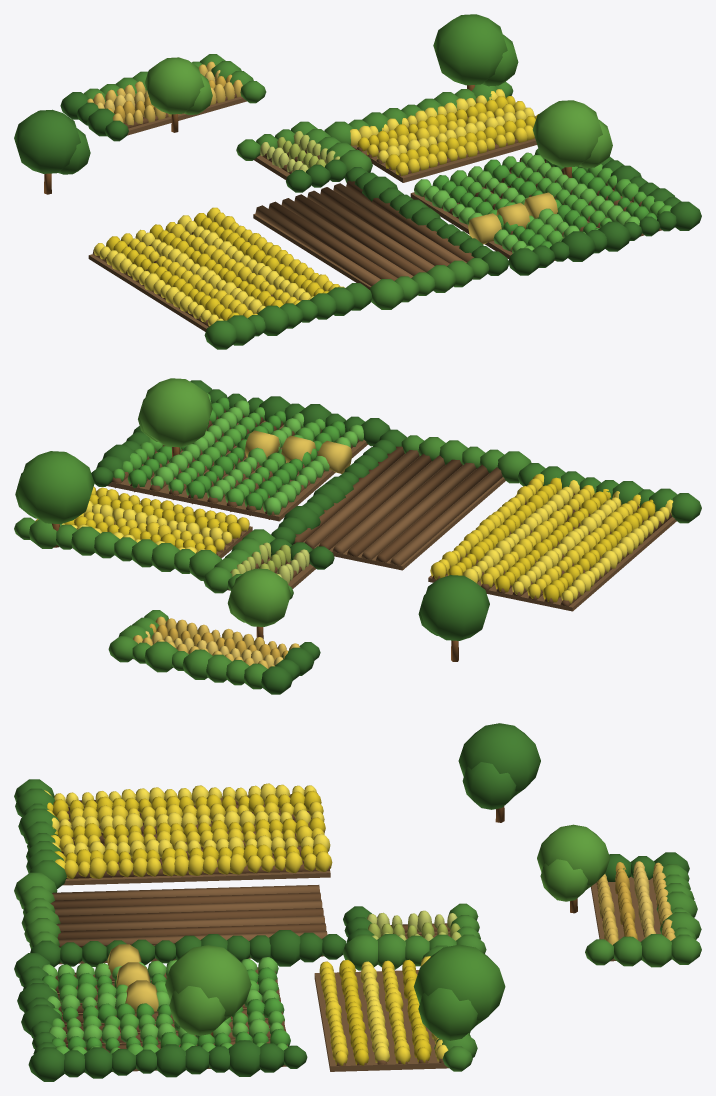
Rendered from improvement_farm_2_0.fbx.
The picture shows the model from 3 angles, top to bottom: view 1: azimuth 30°, elevation 25°; view 2: azimuth 150°, elevation 25°; view 3: azimuth 270°, elevation 25°; orthographic projection. The views are drawn at different scales.
Parts seen in each view (by area): view 1: improvement_farm_2_0_crop#f4dc48.001_04, improvement_farm_2_0_crop#ecd030.001_02, improvement_farm_2_0_crop#e0c420.001_03, improvement_farm_2_0_leaf#5a9a38.003_28, improvement_farm_2_0_plough1.003_07, improvement_farm_2_0_plough0.003_06, improvement_farm_2_0_hedge2.013_21, improvement_farm_2_0_hedge0.013_08, improvement_farm_2_0_hedge2.012_09, improvement_farm_2_0_crop#68b448.002_25, improvement_farm_2_0_tilled.004_00, improvement_farm_2_0_leaf#4a8a30.004_29 (+14 smaller); view 2: improvement_farm_2_0_crop#e0c420.001_03, improvement_farm_2_0_crop#ecd030.001_02, improvement_farm_2_0_hedge2.012_09, improvement_farm_2_0_crop#f4dc48.001_04, improvement_farm_2_0_leaf#5a9a38.003_28, improvement_farm_2_0_plough1.003_07, improvement_farm_2_0_plough0.003_06, improvement_farm_2_0_tilled.004_00, improvement_farm_2_0_hedge0.014_20, improvement_farm_2_0_crop#68b448.002_25, improvement_farm_2_0_hedge0.013_08, improvement_farm_2_0_crop#4c9a36.003_24 (+14 smaller); view 3: improvement_farm_2_0_hedge0.013_08, improvement_farm_2_0_crop#ecd030.001_02, improvement_farm_2_0_crop#e0c420.001_03, improvement_farm_2_0_leaf#5a9a38.003_28, improvement_farm_2_0_crop#f4dc48.001_04, improvement_farm_2_0_hedge2.012_09, improvement_farm_2_0_plough1.003_07, improvement_farm_2_0_tilled.004_00, improvement_farm_2_0_plough0.003_06, improvement_farm_2_0_leaf#4a8a30.004_29, improvement_farm_2_0_leaf#3f7a2c.003_27, improvement_farm_2_0_crop#68b448.002_25 (+15 smaller).
Boxes of the visible parts, x1,y1,x2,y2 form: improvement_farm_2_0_crop#f4dc48.001_04: (93, 89, 534, 326); improvement_farm_2_0_crop#ecd030.001_02: (120, 101, 534, 318); improvement_farm_2_0_crop#e0c420.001_03: (105, 96, 538, 320); improvement_farm_2_0_leaf#5a9a38.003_28: (145, 57, 612, 168); improvement_farm_2_0_plough1.003_07: (255, 183, 466, 286); improvement_farm_2_0_plough0.003_06: (268, 180, 474, 280); improvement_farm_2_0_hedge2.013_21: (60, 92, 676, 275); improvement_farm_2_0_hedge0.013_08: (345, 157, 701, 275); improvement_farm_2_0_hedge2.012_09: (83, 54, 489, 309); improvement_farm_2_0_crop#68b448.002_25: (414, 152, 639, 253); improvement_farm_2_0_tilled.004_00: (88, 96, 661, 331); improvement_farm_2_0_leaf#4a8a30.004_29: (433, 14, 518, 86); improvement_farm_2_0_crop#e0c420.001_03: (64, 477, 655, 602); improvement_farm_2_0_crop#ecd030.001_02: (75, 473, 640, 598); improvement_farm_2_0_hedge2.012_09: (108, 435, 531, 689); improvement_farm_2_0_crop#f4dc48.001_04: (35, 480, 673, 603); improvement_farm_2_0_leaf#5a9a38.003_28: (138, 378, 290, 626); improvement_farm_2_0_plough1.003_07: (305, 450, 502, 565); improvement_farm_2_0_plough0.003_06: (294, 446, 488, 562); improvement_farm_2_0_tilled.004_00: (107, 420, 676, 659); improvement_farm_2_0_hedge0.014_20: (14, 517, 221, 639); improvement_farm_2_0_crop#68b448.002_25: (150, 400, 363, 515); improvement_farm_2_0_hedge0.013_08: (91, 380, 406, 544); improvement_farm_2_0_crop#4c9a36.003_24: (127, 397, 345, 509); improvement_farm_2_0_hedge0.013_08: (28, 930, 346, 1081); improvement_farm_2_0_crop#ecd030.001_02: (47, 801, 410, 1065); improvement_farm_2_0_crop#e0c420.001_03: (47, 790, 431, 1065); improvement_farm_2_0_leaf#5a9a38.003_28: (165, 824, 610, 1035); improvement_farm_2_0_crop#f4dc48.001_04: (44, 783, 448, 1062); improvement_farm_2_0_hedge2.012_09: (14, 864, 701, 970); improvement_farm_2_0_plough1.003_07: (52, 885, 327, 946); improvement_farm_2_0_tilled.004_00: (57, 871, 661, 1072); improvement_farm_2_0_plough0.003_06: (50, 892, 326, 947); improvement_farm_2_0_leaf#4a8a30.004_29: (413, 944, 505, 1040); improvement_farm_2_0_leaf#3f7a2c.003_27: (458, 723, 540, 809); improvement_farm_2_0_crop#68b448.002_25: (42, 957, 284, 1043).
Size of the model in its own units: 200 by 36.19 by 205.
